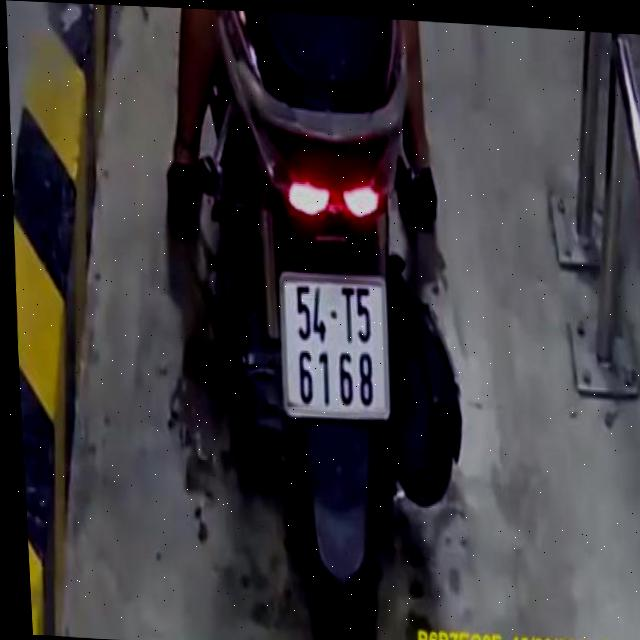motorcycle: (186, 17, 494, 640)
plate: (269, 265, 401, 430)
